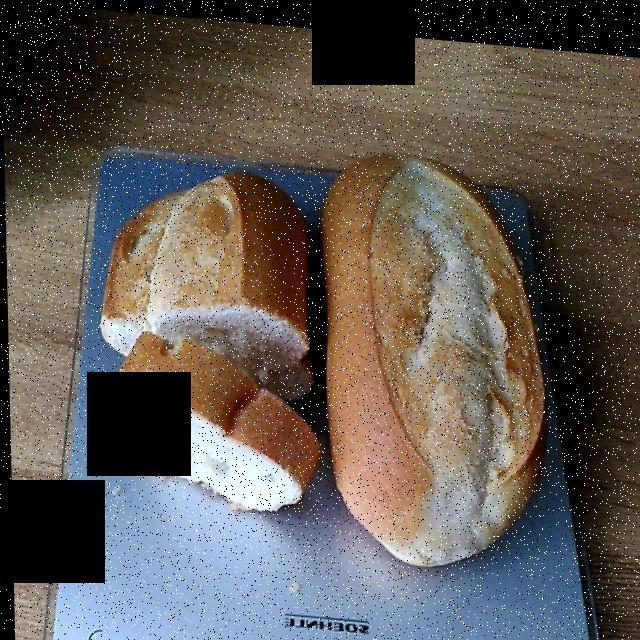bread: (104, 162, 535, 546)
